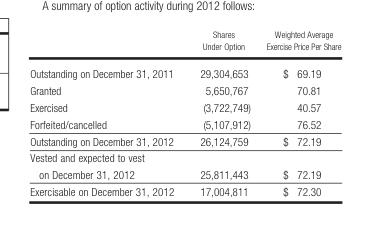table: (29, 29, 340, 197)
table column: (29, 29, 186, 197), (257, 29, 340, 197), (186, 29, 257, 197)
table column header: (29, 29, 340, 59)
table row: (29, 149, 340, 182), (29, 29, 340, 59), (29, 59, 340, 81), (29, 81, 340, 98), (29, 98, 340, 115), (29, 115, 340, 132), (29, 132, 340, 149), (29, 182, 340, 197)
